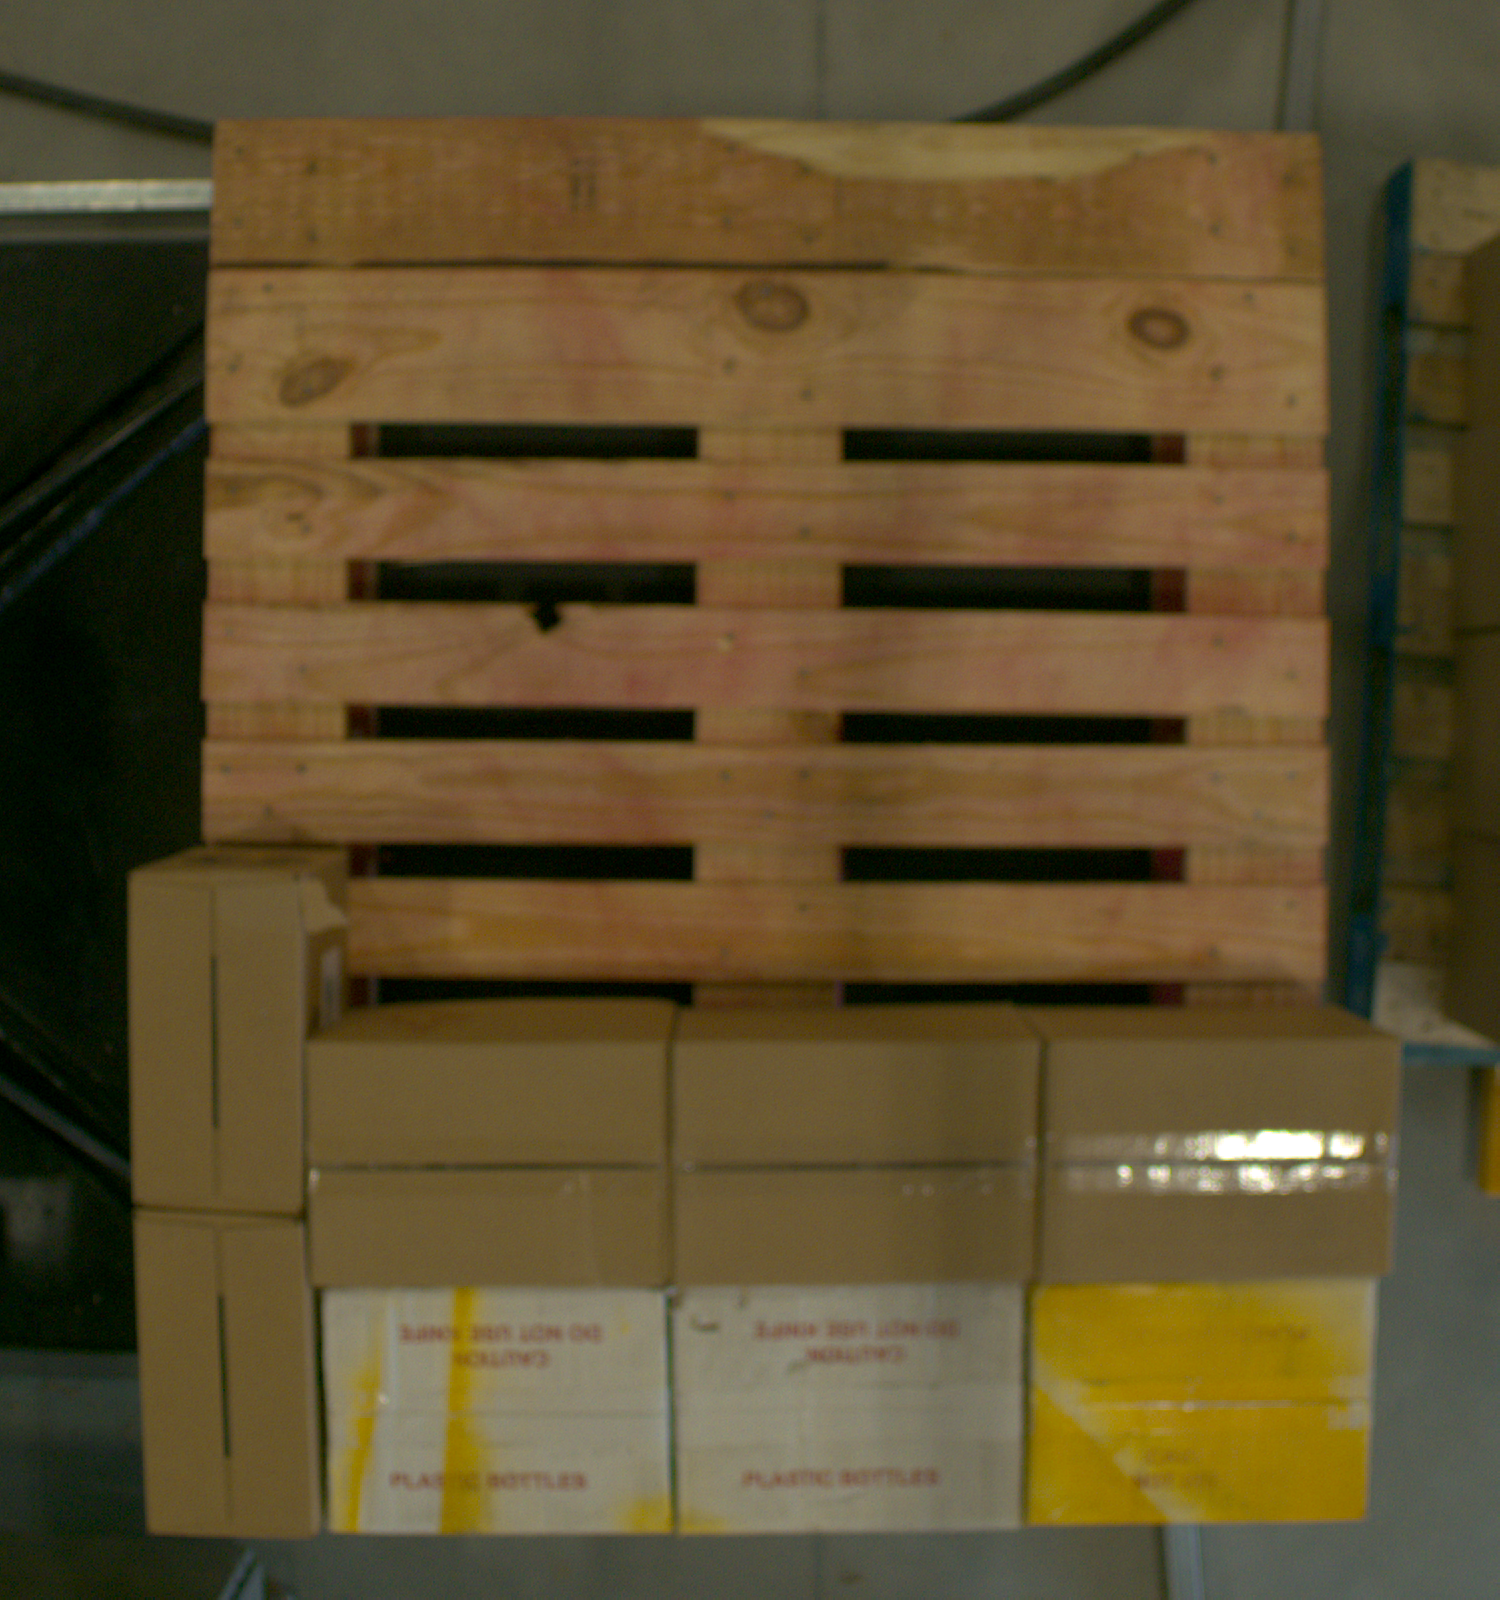box top: (1043, 1040, 1401, 1283), (309, 1043, 668, 1284), (725, 1236, 973, 1584), (1028, 1280, 1379, 1525), (674, 1045, 1031, 1283), (376, 1242, 619, 1584), (135, 1212, 319, 1537), (49, 957, 382, 1125)
